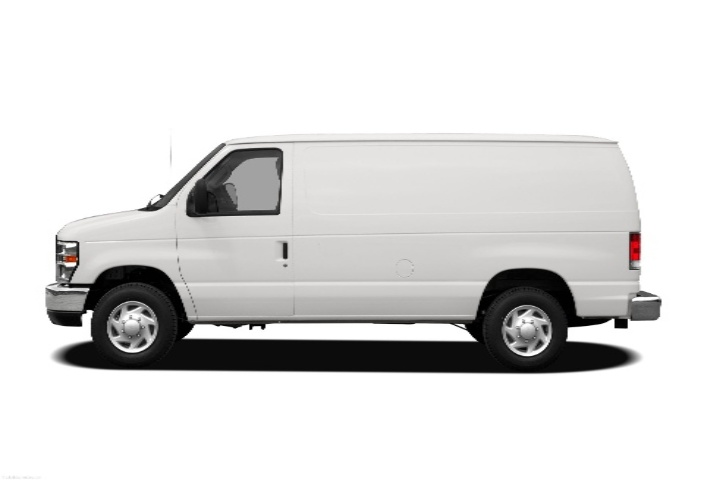van: (22, 124, 693, 385)
